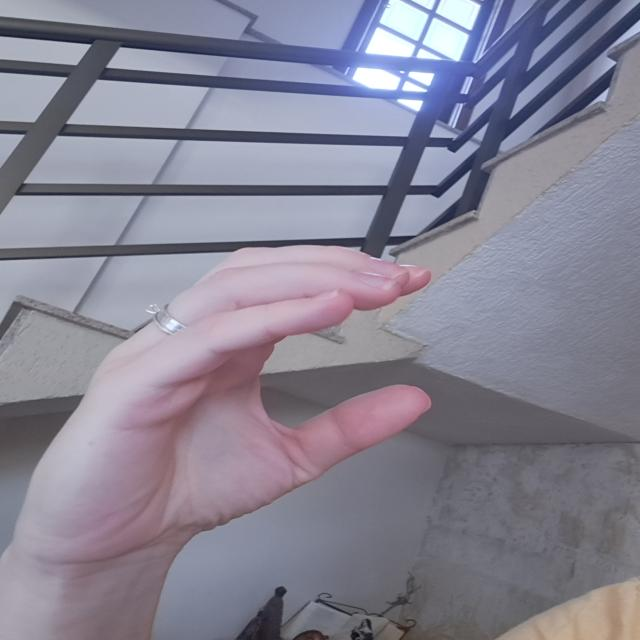C: (37, 230, 439, 524)
